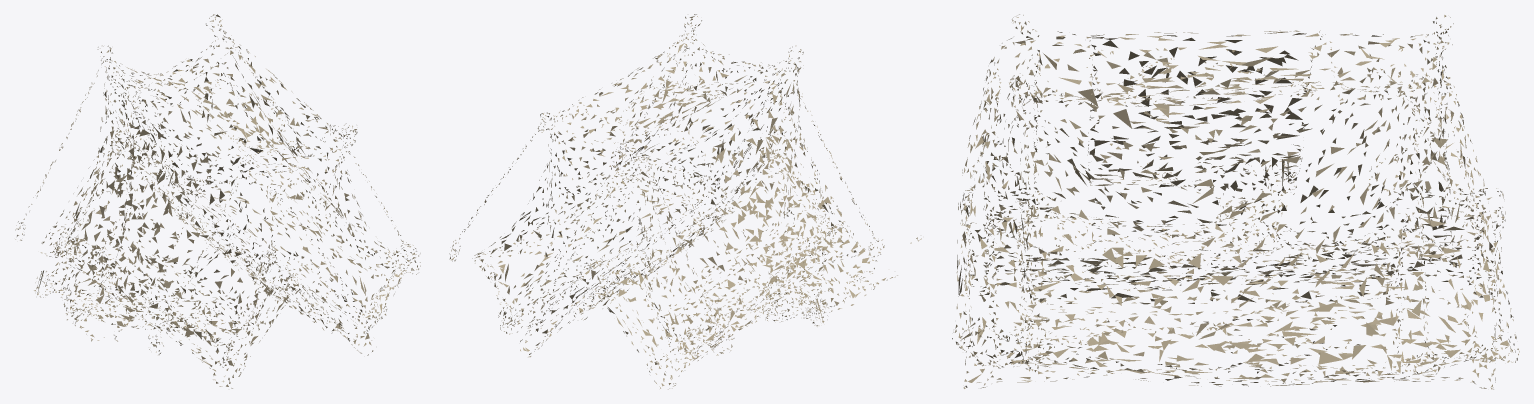
Rendered from tent.obj.
The picture shows the model from 3 angles, left to right: view 1: azimuth 30°, elevation 25°; view 2: azimuth 150°, elevation 25°; view 3: azimuth 270°, elevation 25°; orthographic projection. The views are drawn at different scales.
Bounding box in the file's own units: 1.75 × 1.13 × 1.8.
